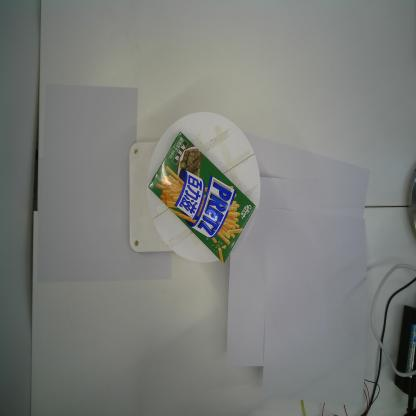Dessert: (146, 131, 256, 266)
